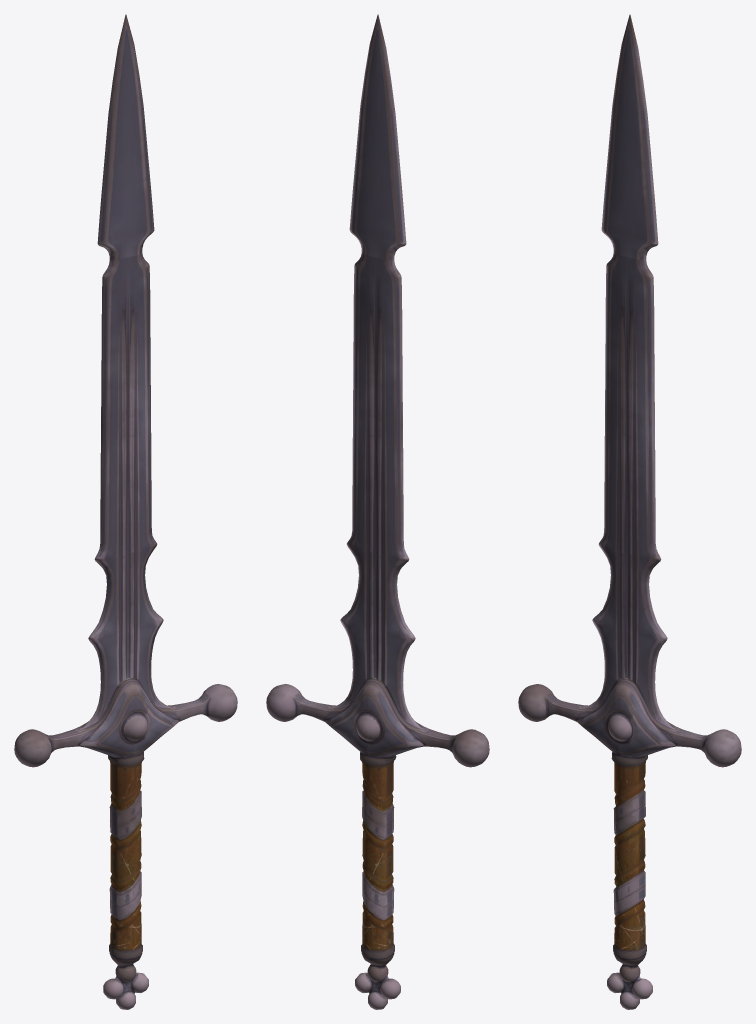
3 renders of one model, left to right at view 1: azimuth 30°, elevation 25°; view 2: azimuth 150°, elevation 25°; view 3: azimuth 330°, elevation 25°, orthographic.
Visible parts, largest first — view 1: SM_GreatSword_Mithril_2H_01_LOD0; view 2: SM_GreatSword_Mithril_2H_01_LOD0; view 3: SM_GreatSword_Mithril_2H_01_LOD0.
Part boxes in pixels (<box>): SM_GreatSword_Mithril_2H_01_LOD0: <box>14,14,237,1009</box>; SM_GreatSword_Mithril_2H_01_LOD0: <box>266,14,489,1009</box>; SM_GreatSword_Mithril_2H_01_LOD0: <box>518,14,741,1009</box>.
Size of the model in its own units: 0.4716 by 2.05 by 0.1127.
Materials: 1 (1 with a texture image).
